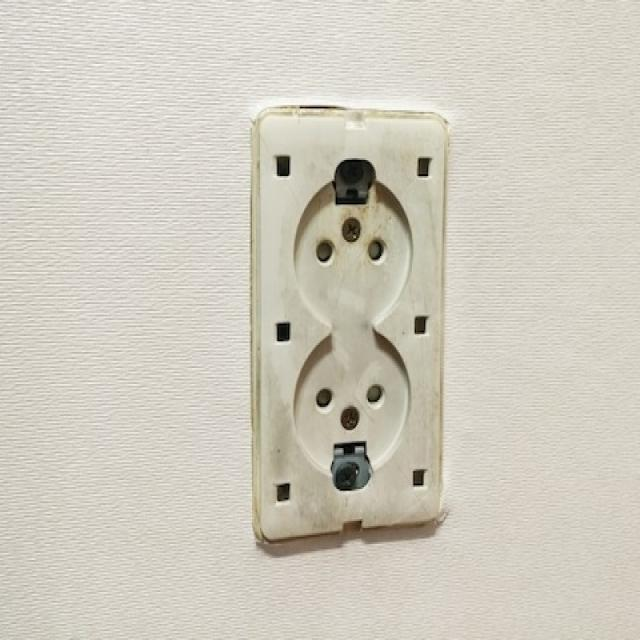typeb: (246, 67, 475, 573)
